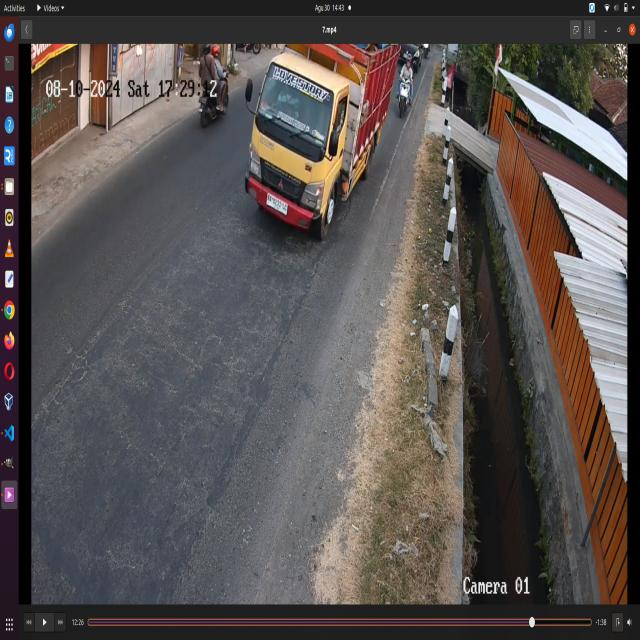person_without_seatbelt: (277, 77, 300, 125)
